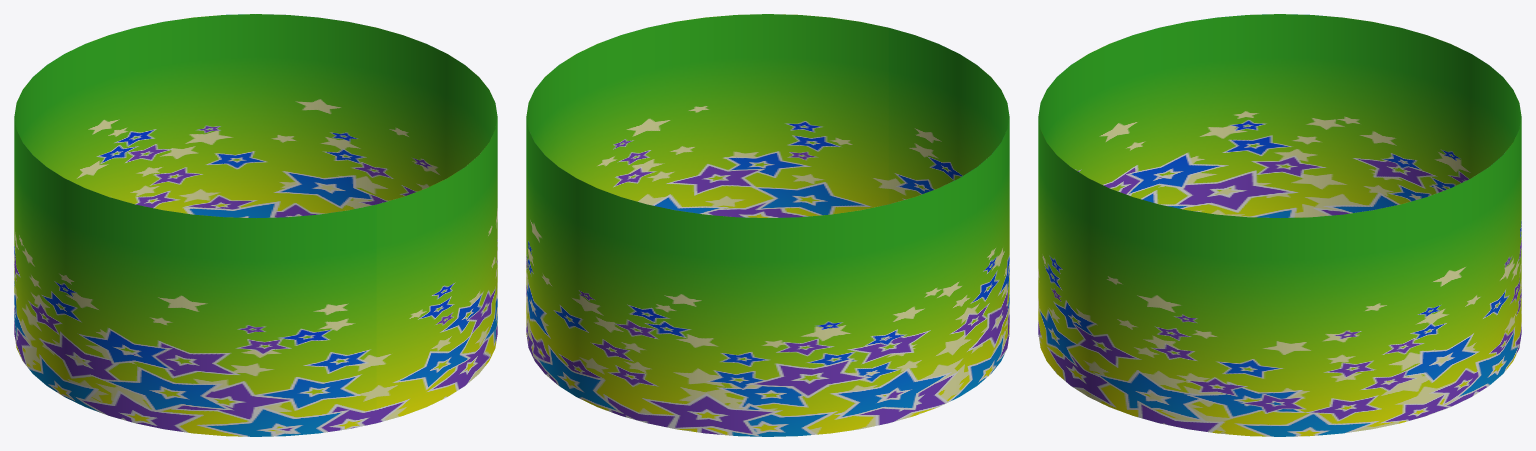
The model's file is wall.FBX.
3 renders of one model, left to right at view 1: azimuth 30°, elevation 25°; view 2: azimuth 150°, elevation 25°; view 3: azimuth 270°, elevation 25°, orthographic.
Visible parts, largest first — view 1: wall; view 2: wall; view 3: wall.
Boxes of the visible parts, x1,y1,x2,y2 form: wall: (14, 14, 497, 436); wall: (526, 14, 1009, 436); wall: (1038, 14, 1521, 436).
Size of the model in its own units: 12 by 12 by 6.
